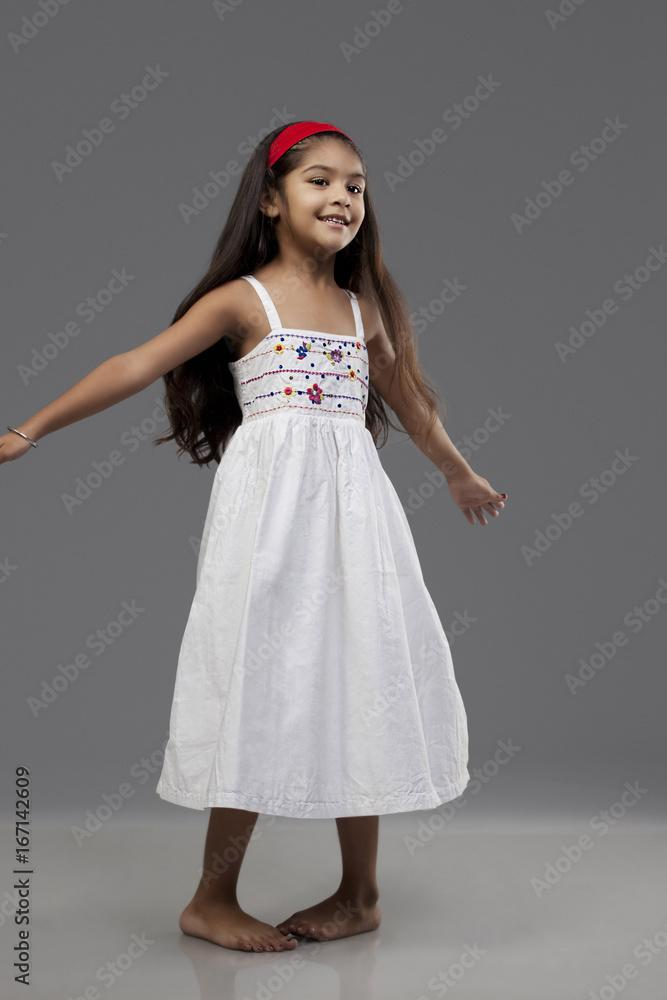Human: (78, 118, 495, 974)
